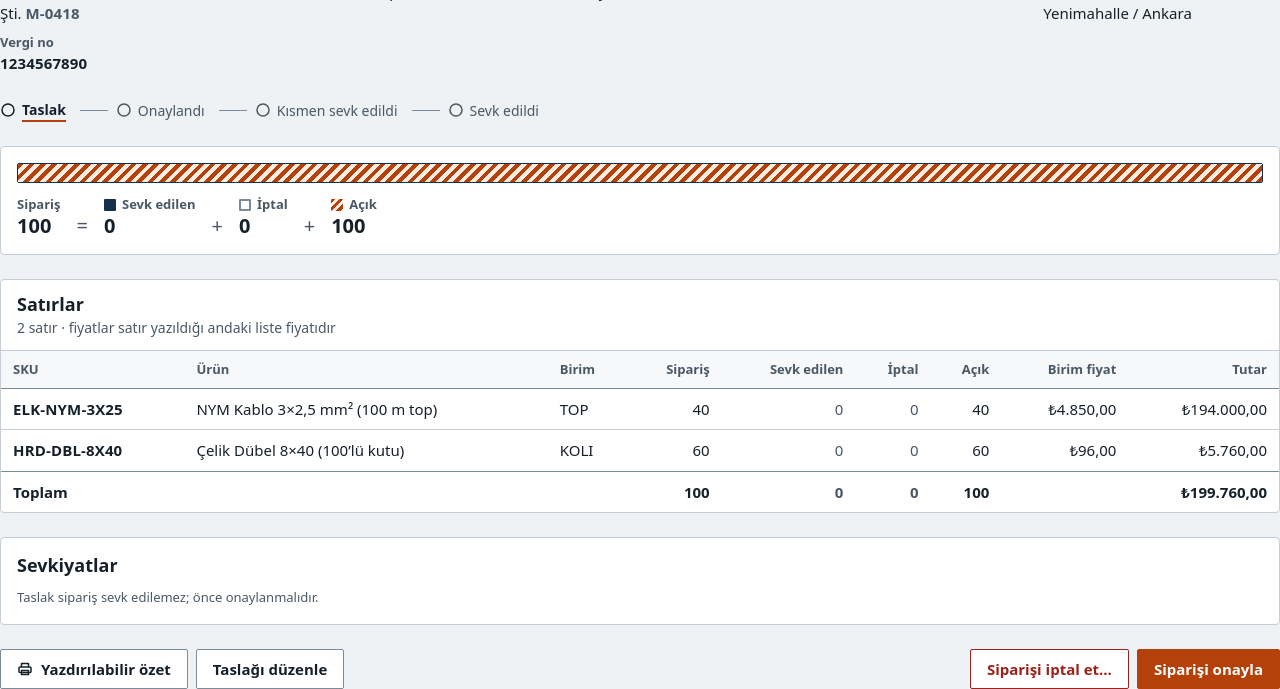
Test: satış siparişi belgesi › onay isteğinde belgenin ETag değerini If-Match olarak ve bir Idempotency-Key gönderir; sonucu sunucudan yazar
(page scrolled)
Click the button "Siparişi onayla". click: click(1208, 669)
box: [1137,649,1279,688]
(page scrolled)
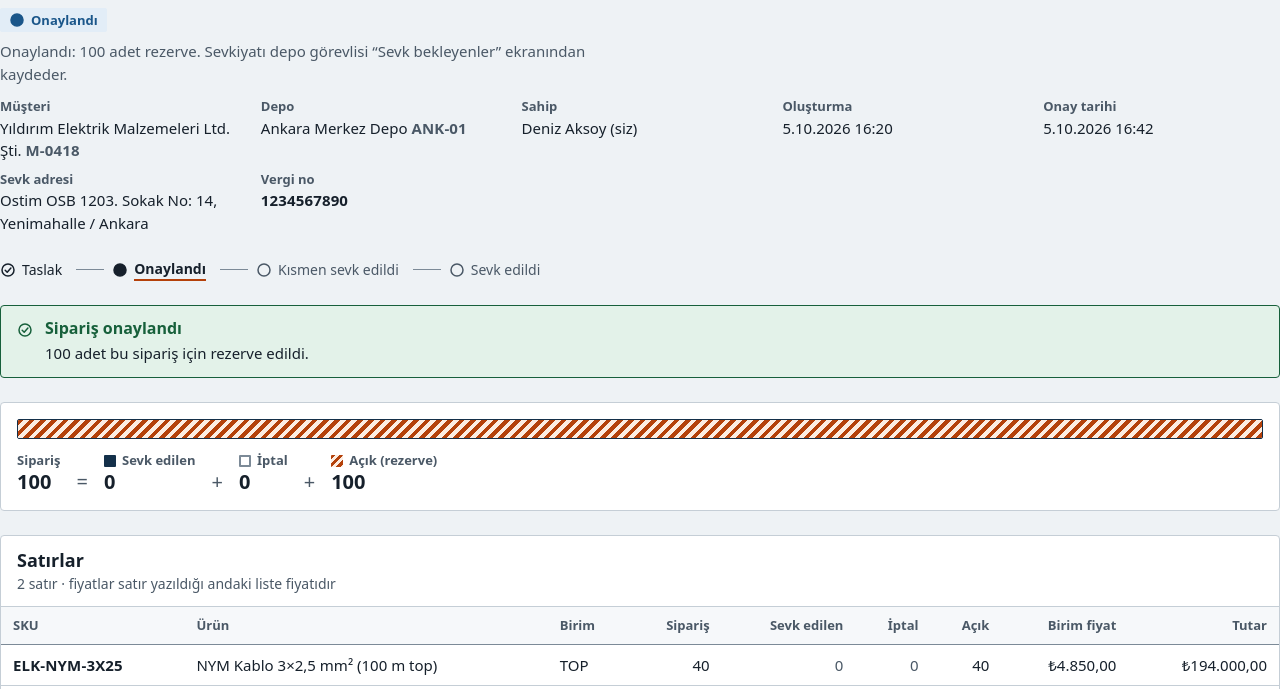
Check: the heading "Sipariş onaylandı" is shown, box [45,318,182,340]
Check: the text "100 adet bu sipariş için rezerve edildi." is shown, box [45,344,309,364]
Check: the text "Onaylandı" is shown, box [0,8,107,32]
